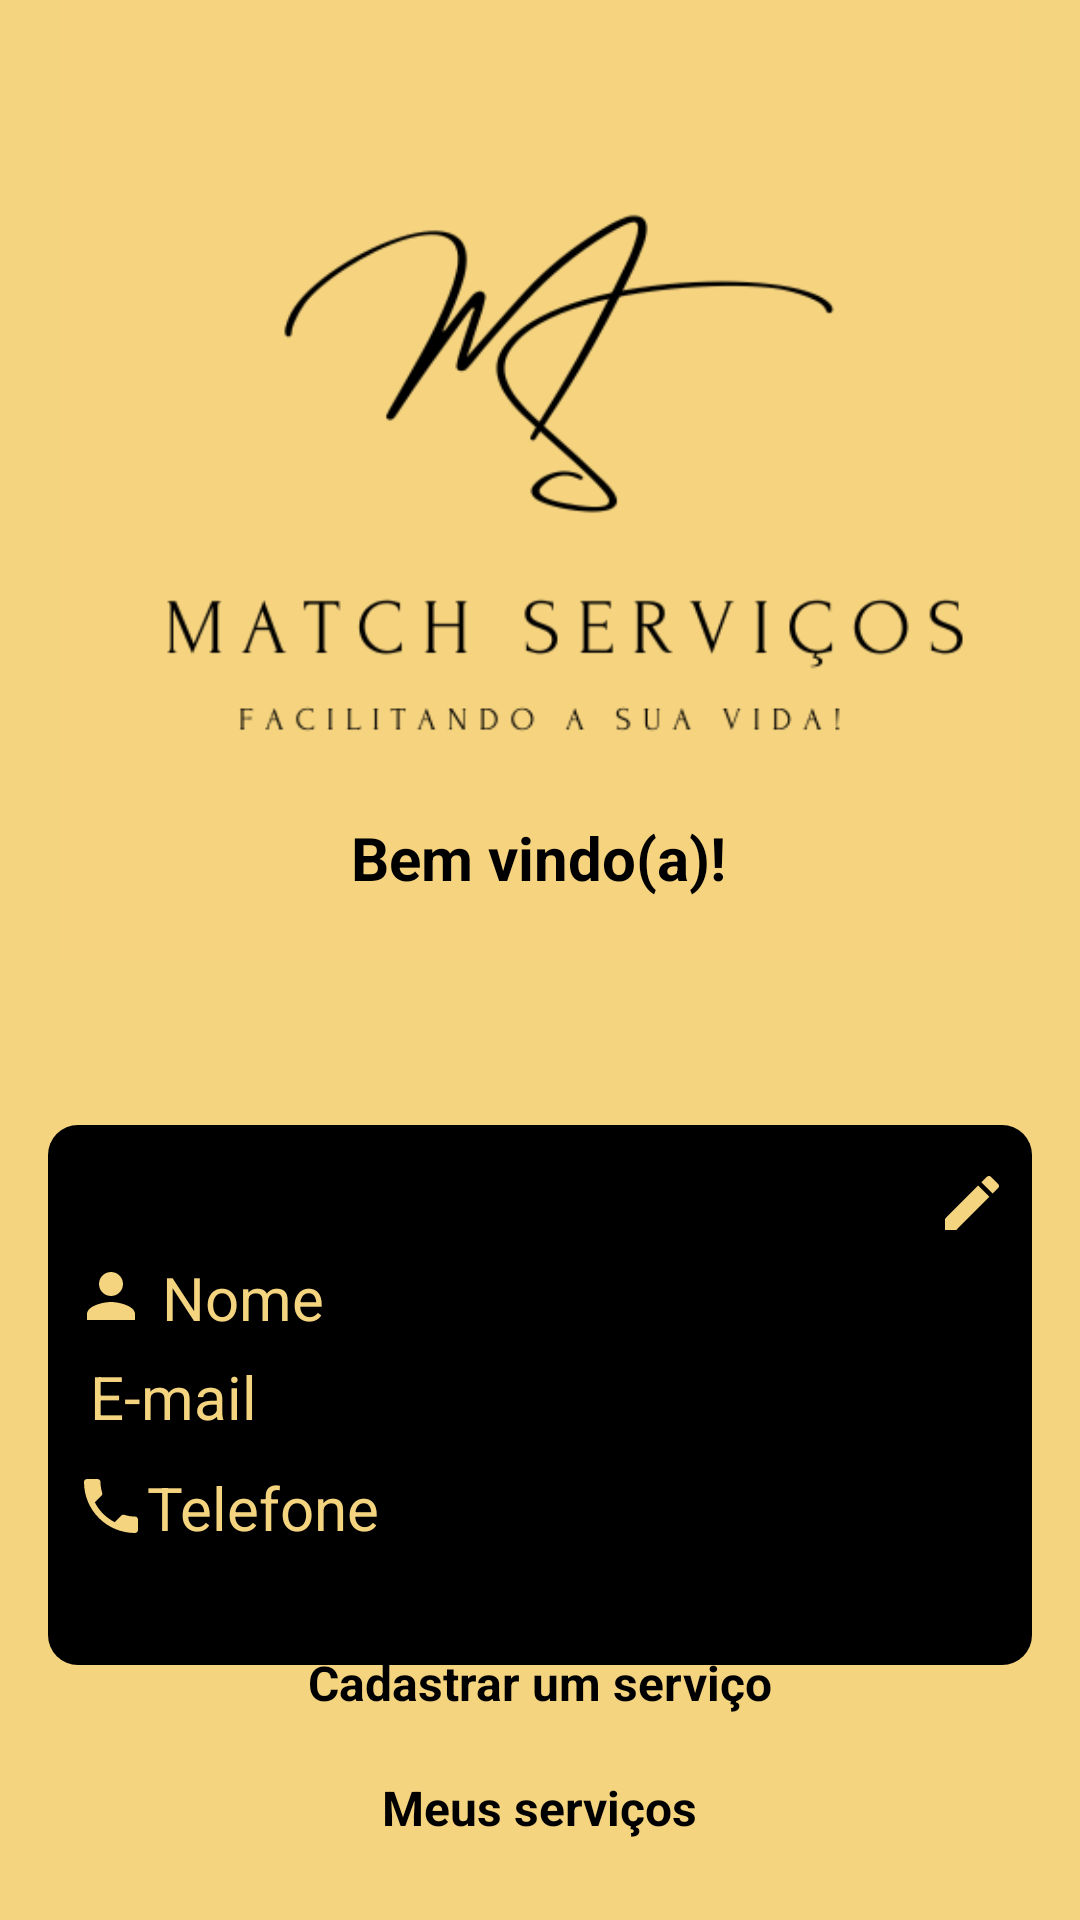

Locate icon controls on the screen. Image size 1080 x 1920, boxes as (x1, y1, x2, y2).
edit: (945, 1176, 999, 1230)
person: (87, 1272, 135, 1320)
phone: (84, 1479, 138, 1533)
